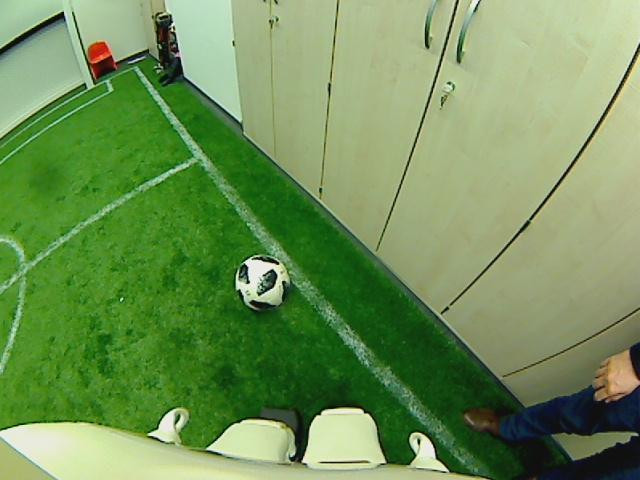ball: (233, 254, 289, 309)
